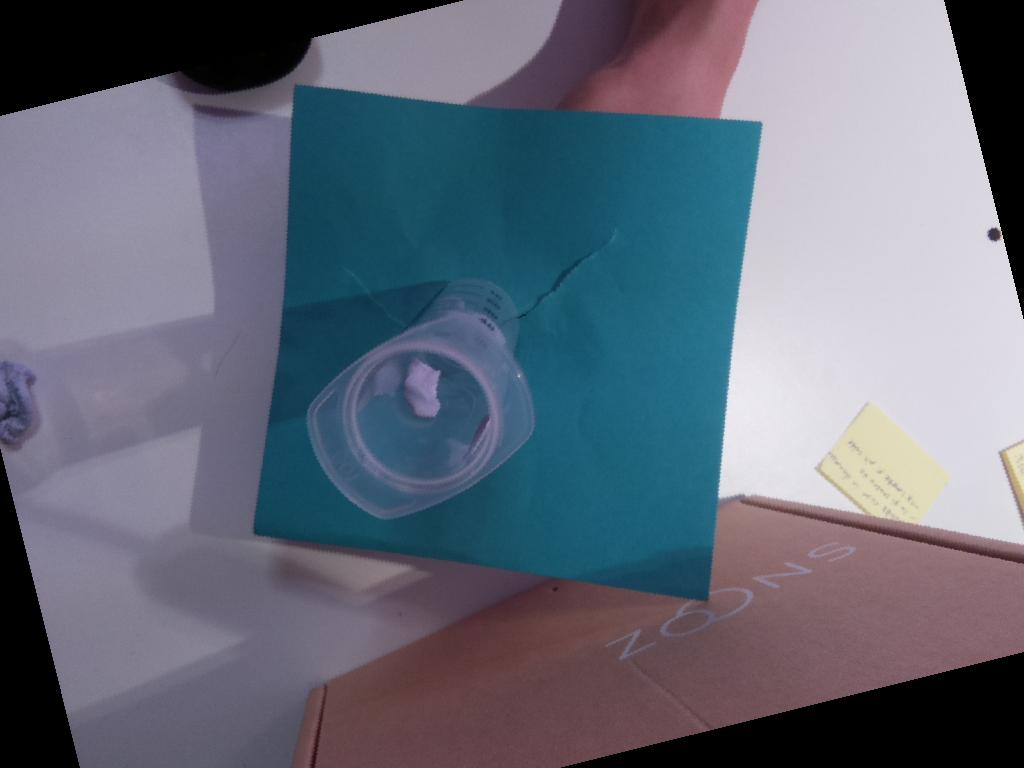dirty: (306, 309, 534, 518)
